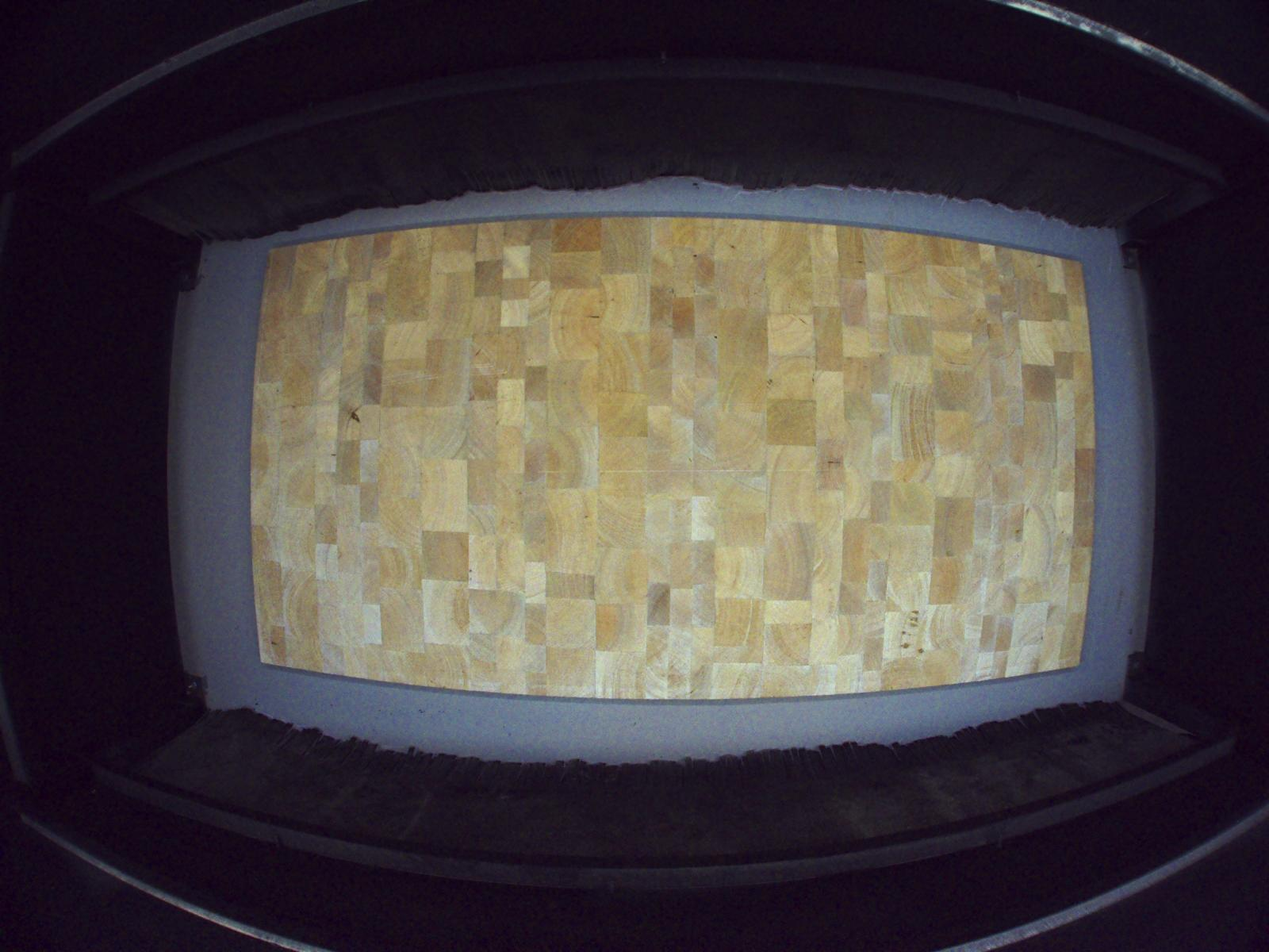sheck_ecuatoriano: (344, 405, 364, 439)
